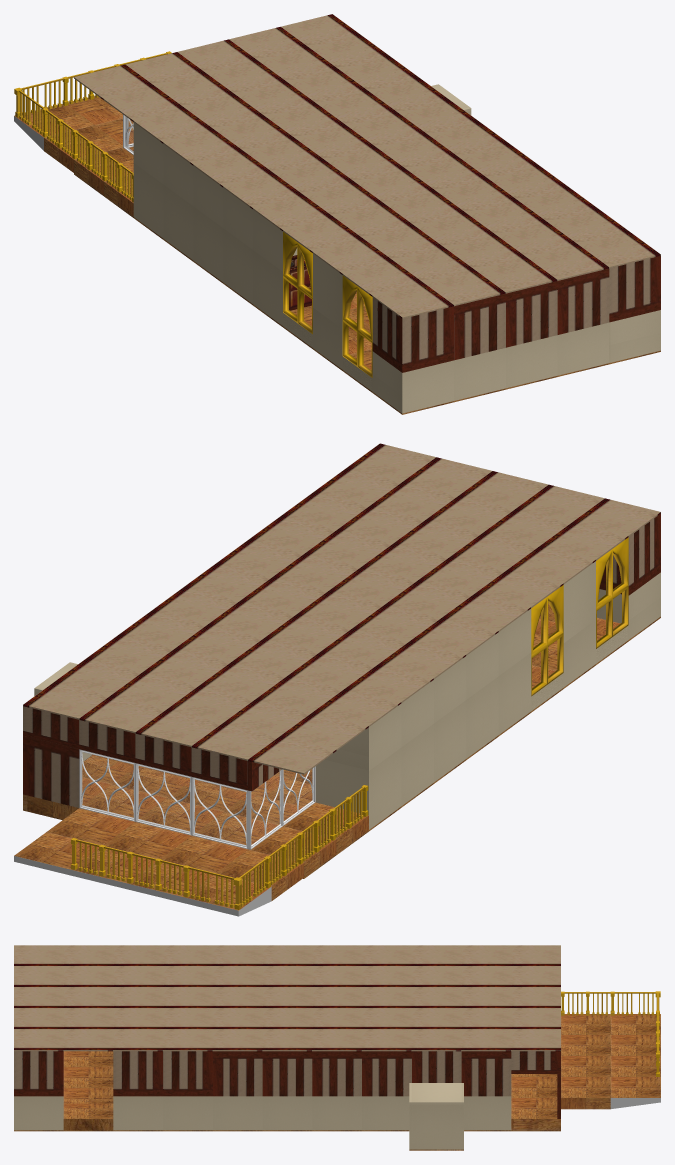
Rendered from Bedroom.fbx.
3 renders of one model, top to bottom at view 1: azimuth 30°, elevation 25°; view 2: azimuth 150°, elevation 25°; view 3: azimuth 270°, elevation 25°, orthographic. The views are drawn at different scales.
Parts seen in each view (by area): view 1: BedroomCeiling, BedroomWallB0LeftFirePlace, BedroomWallB1Front, BedroomWallB0Front, BedroomBalconyFloor, BedroomWallB1Left, BedroomWallB0LeftWindow, BedroomWallB0Left, BedroomBalconyRail, BedroomWallB1Right, BedroomWallB0Right, BedroomWallWindow (+5 smaller); view 2: BedroomCeiling, BedroomWallB0LeftFirePlace, BedroomBalconyFloor, BedroomFloorStairs, BedroomWindowCeiling, BedroomWallB0LeftWindow, BedroomBalconyRail, BedroomWallB0Back, BedroomBalconyRail.001, BedroomFloor, BedroomWallB1Left, BedroomWallWindow.001 (+8 smaller); view 3: BedroomCeiling, BedroomBalconyFloor, BedroomWallB1Right.001, BedroomWallB0Right.001, BedroomWallB1Right.002, BedroomWallHiddenRoom, BedroomFloor, BedroomWallB0Right.002, BedroomFloorStairs, BedroomWallB0Right.006, BedroomWallB1Right, BedroomWallB0Right (+5 smaller).
Part boxes in pixels (left/top/right/bottom): BedroomCeiling: left=74, top=14, right=660, bottom=318; BedroomWallB0LeftFirePlace: left=133, top=122, right=311, bottom=325; BedroomWallB1Front: left=454, top=268, right=609, bottom=360; BedroomWallB0Front: left=454, top=322, right=609, bottom=400; BedroomBalconyFloor: left=14, top=96, right=133, bottom=216; BedroomWallB1Left: left=372, top=297, right=453, bottom=372; BedroomWallB0LeftWindow: left=283, top=253, right=372, bottom=391; BedroomWallB0Left: left=372, top=351, right=453, bottom=413; BedroomBalconyRail: left=31, top=99, right=133, bottom=202; BedroomWallB1Right: left=609, top=256, right=660, bottom=322; BedroomWallB0Right: left=609, top=310, right=660, bottom=362; BedroomWallWindow: left=342, top=275, right=372, bottom=377; BedroomCeiling: left=23, top=443, right=660, bottom=774; BedroomWallB0LeftFirePlace: left=315, top=608, right=531, bottom=829; BedroomBalconyFloor: left=14, top=802, right=368, bottom=916; BedroomFloorStairs: left=23, top=755, right=302, bottom=844; BedroomWindowCeiling: left=23, top=706, right=247, bottom=790; BedroomWallB0LeftWindow: left=531, top=561, right=628, bottom=710; BedroomBalconyRail: left=252, top=785, right=368, bottom=896; BedroomWallB0Back: left=23, top=735, right=79, bottom=807; BedroomBalconyRail.001: left=71, top=838, right=212, bottom=902; BedroomFloor: left=23, top=603, right=660, bottom=878; BedroomWallB1Left: left=599, top=513, right=660, bottom=595; BedroomWallWindow.001: left=531, top=585, right=563, bottom=696; BedroomCeiling: left=14, top=945, right=560, bottom=1051; BedroomBalconyFloor: left=561, top=1014, right=660, bottom=1109; BedroomWallB1Right.001: left=213, top=1051, right=411, bottom=1096; BedroomWallB0Right.001: left=213, top=1096, right=409, bottom=1130; BedroomWallB1Right.002: left=113, top=1051, right=212, bottom=1096; BedroomWallHiddenRoom: left=409, top=1083, right=463, bottom=1150; BedroomFloor: left=14, top=1051, right=560, bottom=1131; BedroomWallB0Right.002: left=113, top=1096, right=212, bottom=1130; BedroomFloorStairs: left=511, top=1074, right=560, bottom=1130; BedroomWallB0Right.006: left=461, top=1051, right=511, bottom=1096; BedroomWallB1Right: left=14, top=1051, right=63, bottom=1096; BedroomWallB0Right: left=14, top=1096, right=63, bottom=1130.
Size of the model in its own units: 1185 by 360 by 2602.
